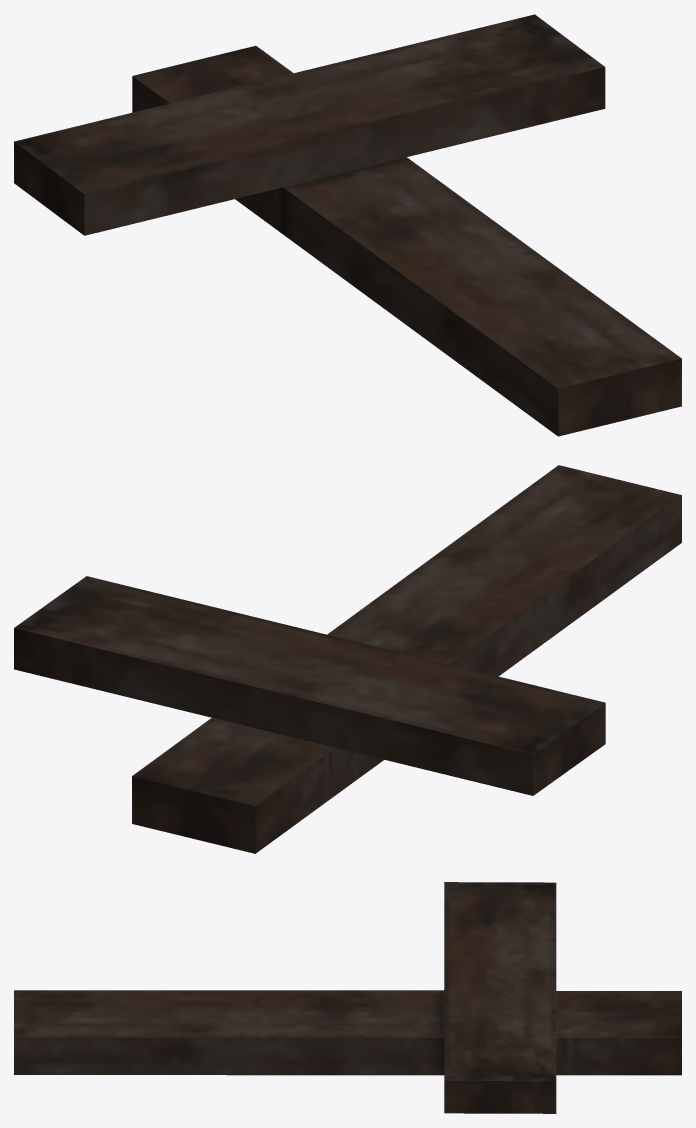
The model's file is cross_1.obj.
3 renders of one model, top to bottom at view 1: azimuth 30°, elevation 25°; view 2: azimuth 150°, elevation 25°; view 3: azimuth 270°, elevation 25°, orthographic. The views are drawn at different scales.
Visible parts, largest first — view 1: cross_1; view 2: cross_1; view 3: cross_1.
Boxes of the visible parts, x1=… form: cross_1: x1=14, y1=14, x2=681, y2=436; cross_1: x1=14, y1=465, x2=681, y2=853; cross_1: x1=14, y1=882, x2=681, y2=1113.
Bounding box in the file's own units: 0.263 × 0.043 × 0.3725.
